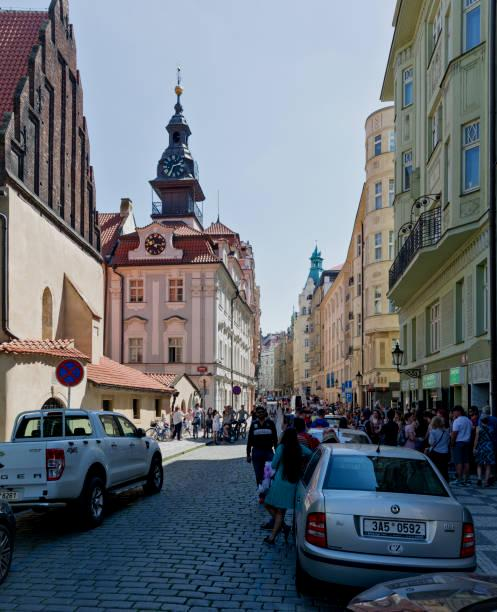skoda: (386, 502, 406, 517)
